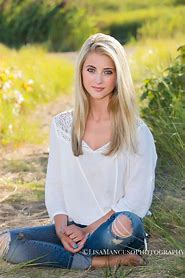person: (74, 33, 127, 104)
